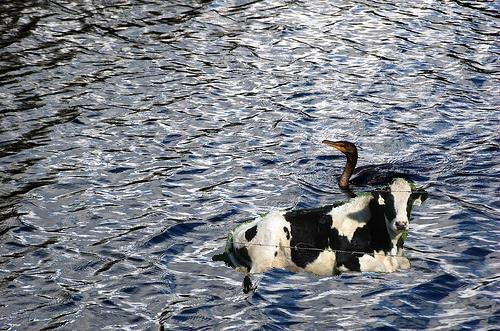tampered: (213, 178, 428, 294)
